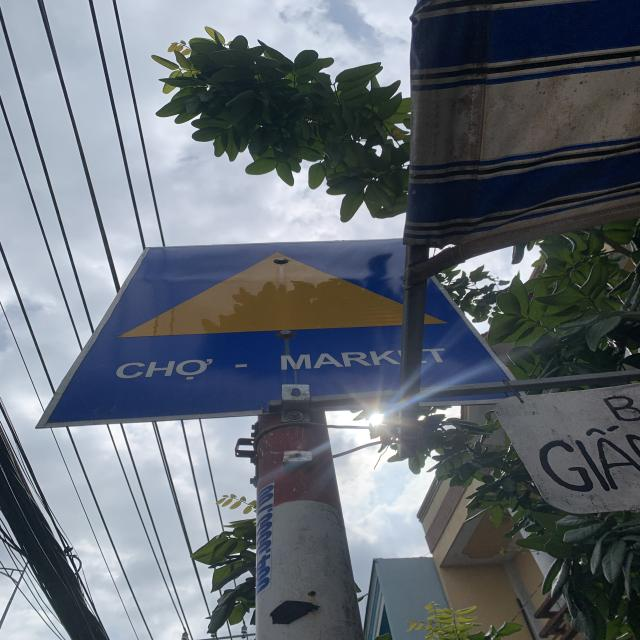Cho_Quay_Xe: (38, 242, 476, 410)
